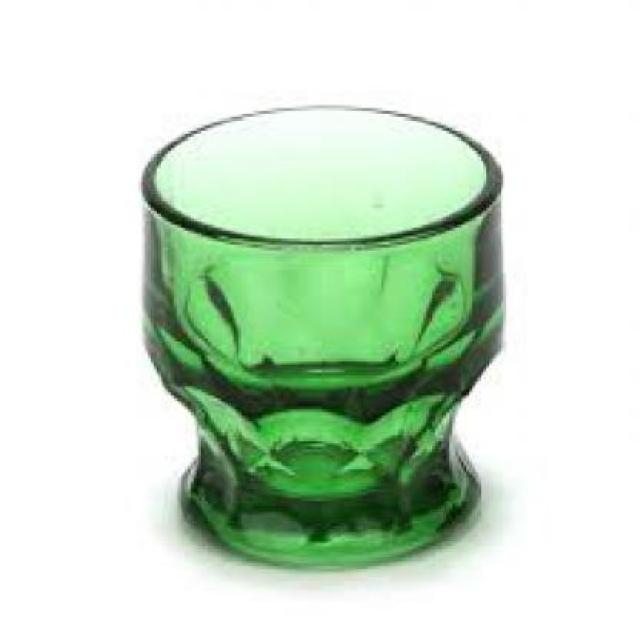GLASS: (140, 102, 509, 568)
